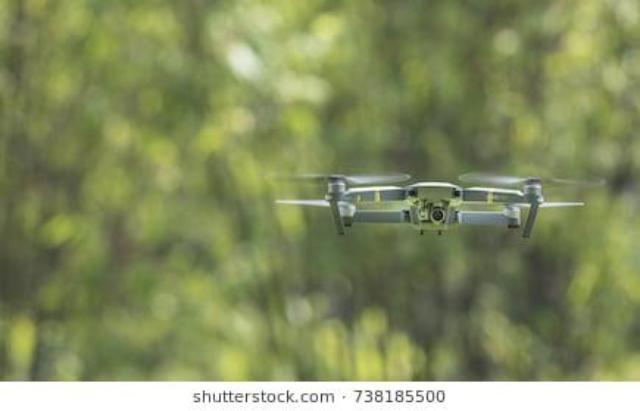drone: (258, 140, 620, 286)
